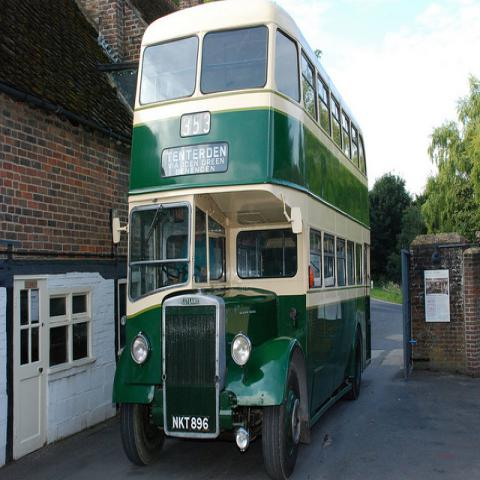bus: (109, 0, 370, 459)
